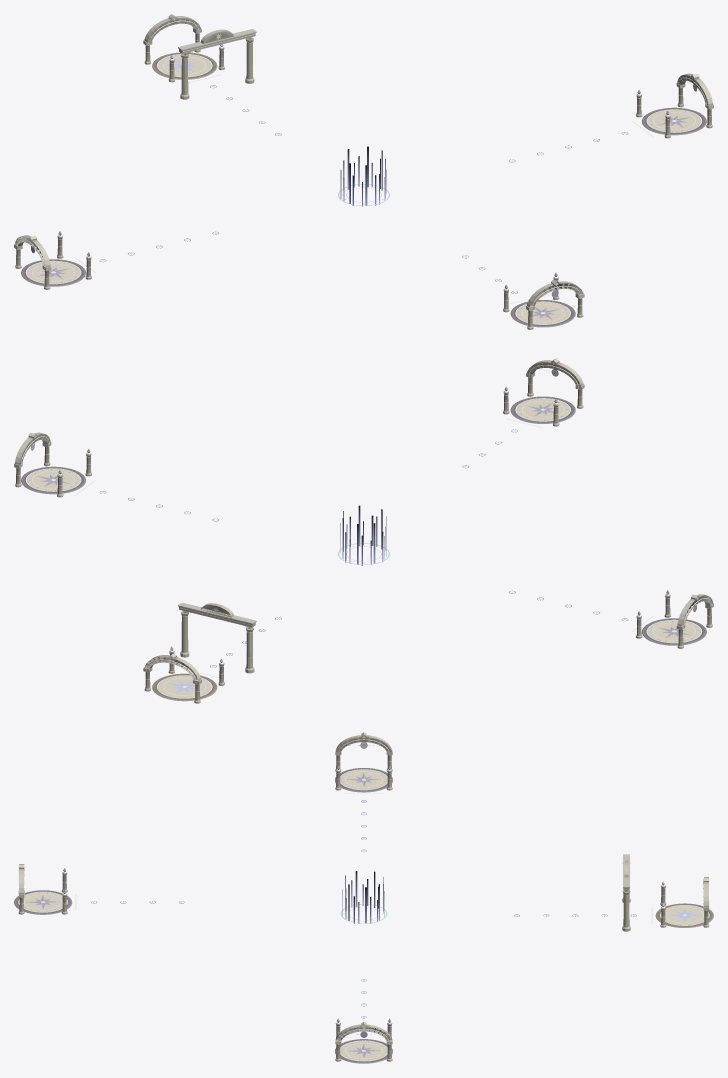
The model's file is portals_hq.glb.
3 views of the same model, one above another, from view 1: azimuth 30°, elevation 25°; view 2: azimuth 150°, elevation 25°; view 3: azimuth 270°, elevation 25° (orthographic). The views are drawn at different scales.
Parts seen in each view (by area): view 1: Portal_stone, Portal_paving, Portal_gold, Portal_fx, Portal_props; view 2: Portal_stone, Portal_paving, Portal_gold, Portal_fx, Portal_props; view 3: Portal_stone, Portal_paving, Portal_gold, Portal_fx, Portal_props.
Boxes of the visible parts, x1=… form: Portal_stone: x1=14, y1=14, x2=713, y2=329; Portal_paving: x1=26, y1=54, x2=701, y2=324; Portal_gold: x1=15, y1=18, x2=711, y2=326; Portal_fx: x1=340, y1=146, x2=386, y2=206; Portal_props: x1=28, y1=84, x2=698, y2=323; Portal_stone: x1=14, y1=358, x2=713, y2=703; Portal_paving: x1=26, y1=398, x2=701, y2=698; Portal_gold: x1=16, y1=362, x2=712, y2=698; Portal_fx: x1=340, y1=505, x2=386, y2=565; Portal_props: x1=29, y1=369, x2=699, y2=641; Portal_stone: x1=14, y1=732, x2=713, y2=1063; Portal_paving: x1=19, y1=769, x2=708, y2=1060; Portal_gold: x1=18, y1=736, x2=709, y2=1061; Portal_fx: x1=342, y1=871, x2=384, y2=923; Portal_props: x1=25, y1=742, x2=390, y2=1060.
Size of the model in its own units: 96 by 7.95 by 96.
